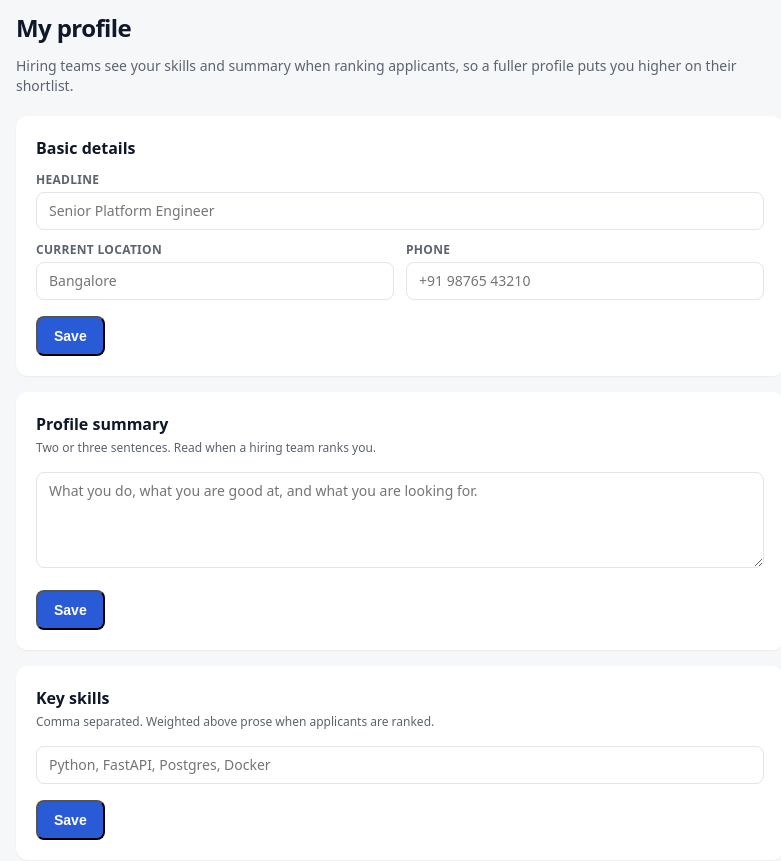
ProfilePage › surfaces a failed save rather than silently discarding it
The width and height of the screenshot is (781, 861).
Check: the field labelled "Headline" is shown, box [36,192,764,230]
Click the button "Save" below "Current location". click: [70, 336]
box: [36,316,105,356]
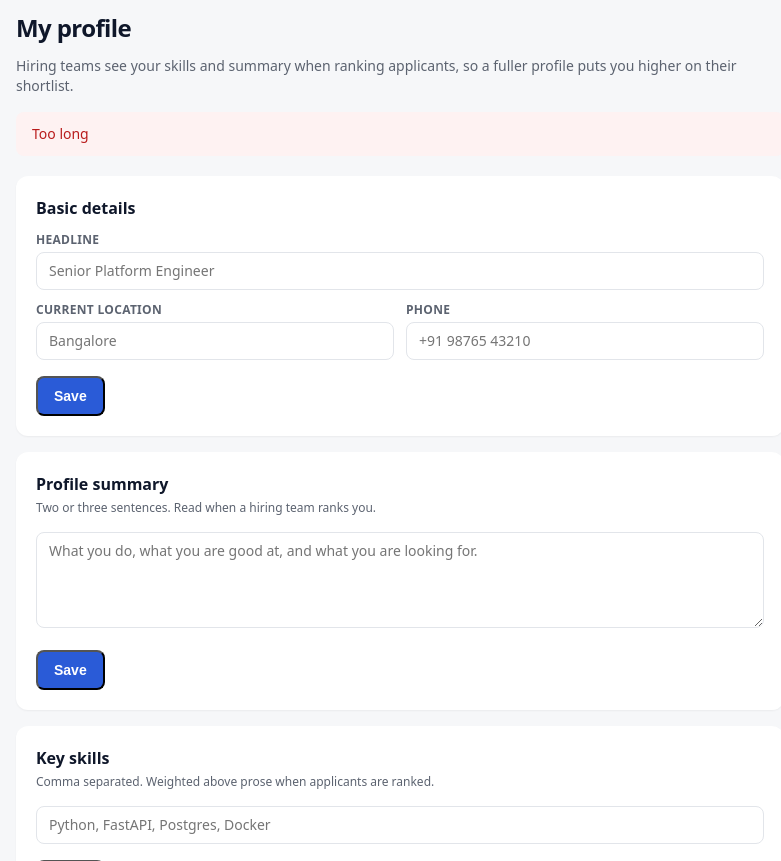
Check: the message reads "Too long", box [32,124,89,143]
